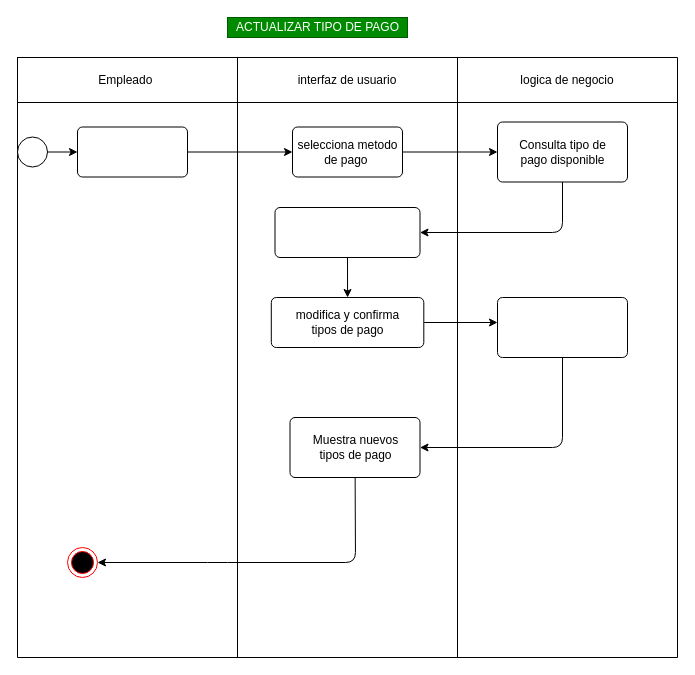
This 695x675 diagram has some shape labels left out. The centre of each missing label's shape, as x and y in pixels:
"ingresa a tipo de pago" belongs at [132,151].
"Muestra tipos de pago" belongs at [347,232].
"Registra nuevo tipo de pago" belongs at [562,327].
